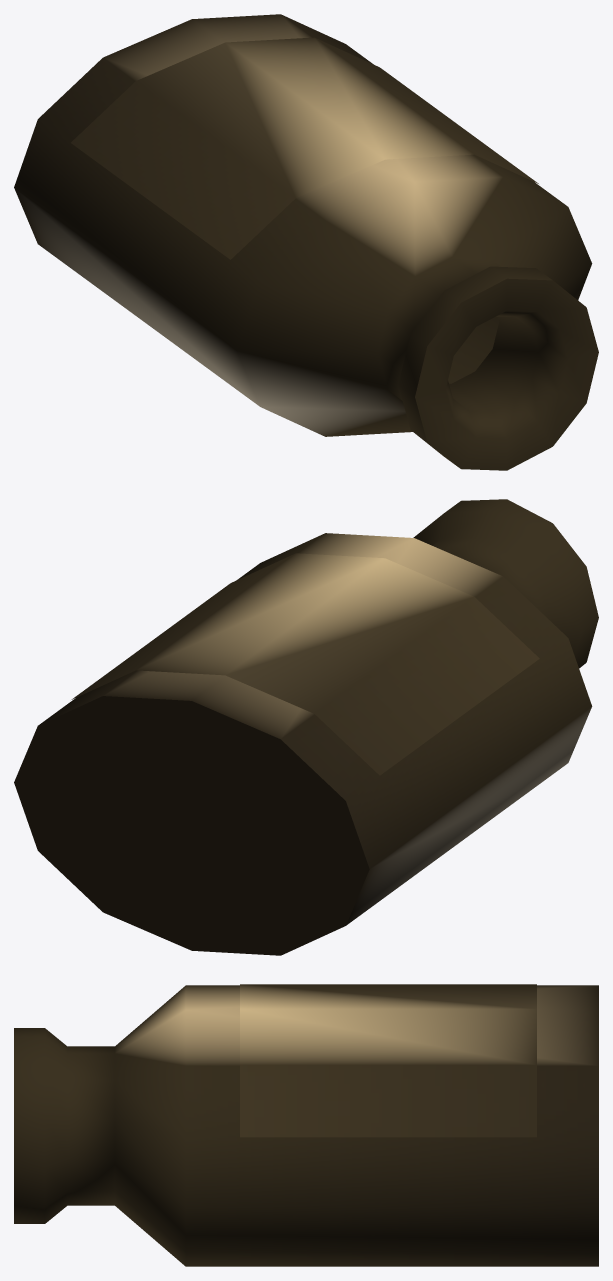
3 views of the same model, one above another, from view 1: azimuth 30°, elevation 25°; view 2: azimuth 150°, elevation 25°; view 3: azimuth 270°, elevation 25° (orthographic). The views are drawn at different scales.
Parts seen in each view (by area): view 1: transp.033; view 2: transp.033; view 3: transp.033.
Boxes of the visible parts, <box> form: transp.033: <box>14,14,598,470</box>; transp.033: <box>14,499,598,955</box>; transp.033: <box>14,984,598,1266</box>.
Size of the model in its own units: 0.3259 by 0.2197 by 0.5.
